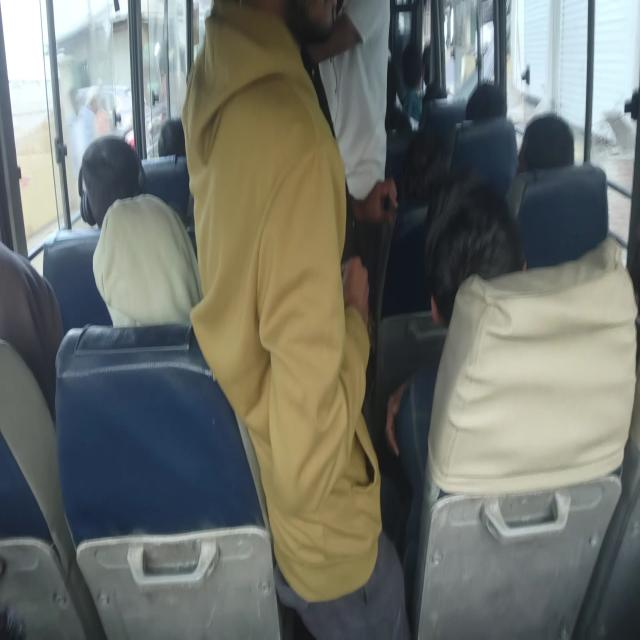person: (192, 9, 358, 405), (316, 0, 395, 175), (0, 232, 60, 379), (426, 186, 510, 290), (113, 187, 182, 310), (82, 129, 140, 205), (406, 138, 450, 198), (522, 116, 567, 170), (398, 42, 442, 92), (465, 79, 509, 122), (154, 114, 187, 168), (426, 88, 462, 114)
